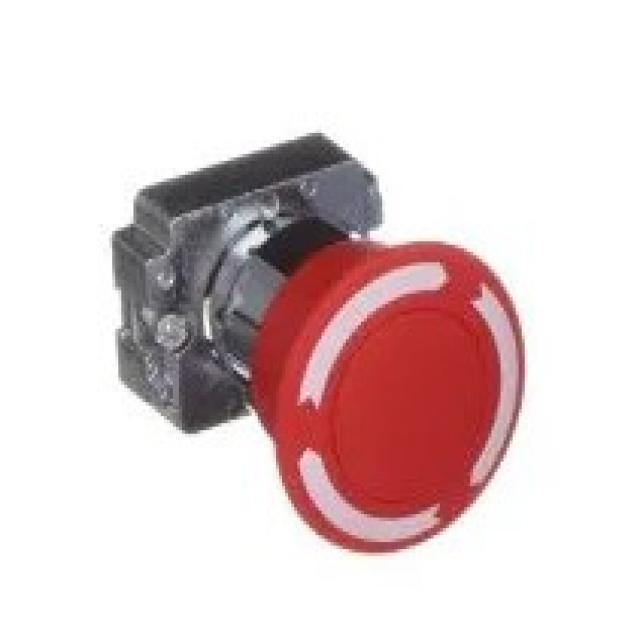safety switch: (228, 214, 523, 561)
